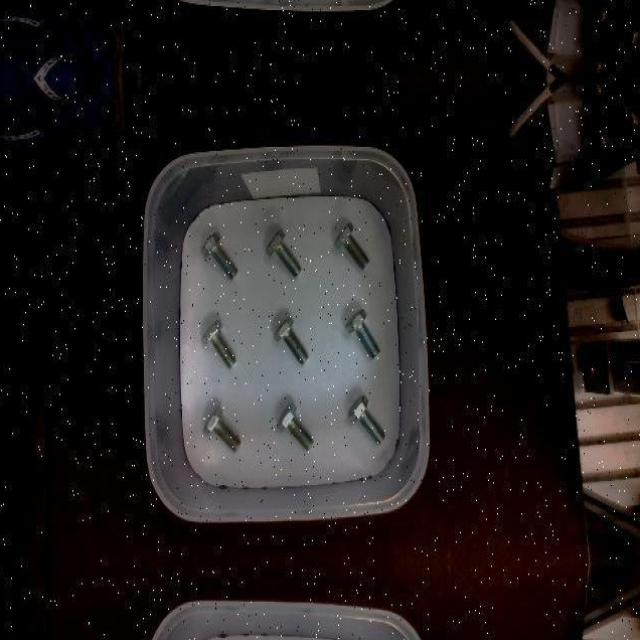screw: (200, 230, 238, 279), (204, 404, 242, 451), (350, 395, 386, 444), (266, 229, 302, 278), (274, 315, 310, 363), (346, 307, 380, 357), (278, 402, 314, 448), (202, 319, 236, 367), (334, 222, 369, 268)
